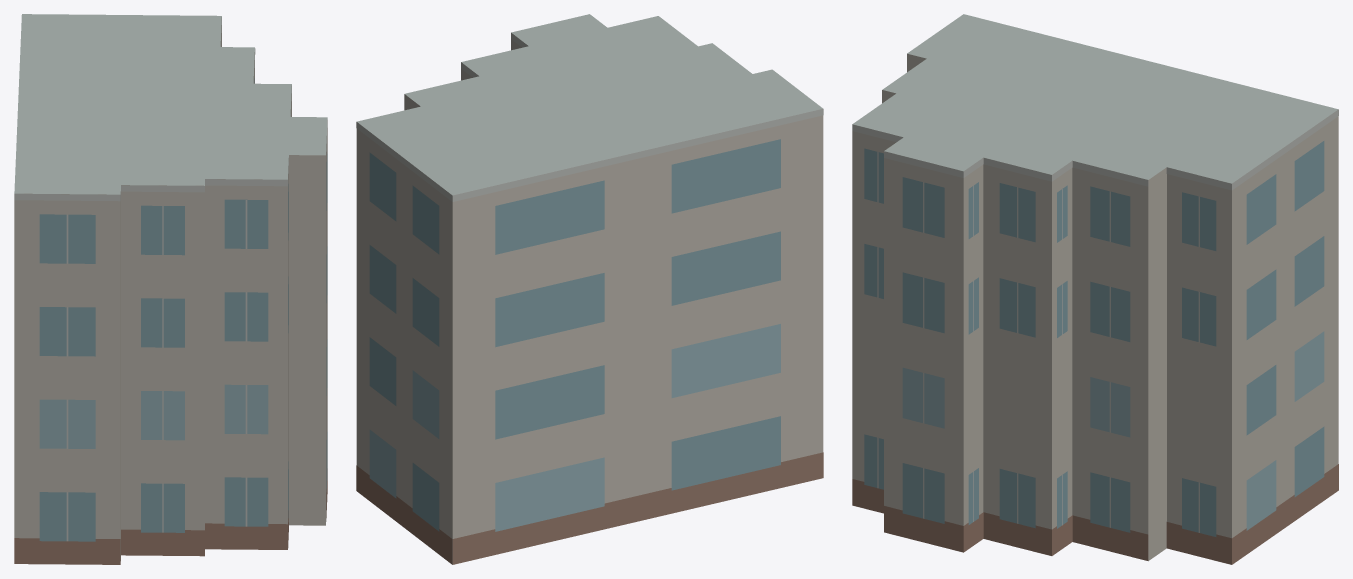
The model's file is survey-upis-32651950.glb.
3 views of the same model, side by side, from view 1: azimuth 30°, elevation 25°; view 2: azimuth 150°, elevation 25°; view 3: azimuth 270°, elevation 25° (orthographic). The views are drawn at different scales.
Parts seen in each view (by area): view 1: survey-upis-32651950.tmp; view 2: survey-upis-32651950.tmp; view 3: survey-upis-32651950.tmp.
Boxes of the visible parts, box(x1,y1,x2,y2) form: survey-upis-32651950.tmp: box(14, 14, 327, 564); survey-upis-32651950.tmp: box(356, 14, 823, 564); survey-upis-32651950.tmp: box(852, 14, 1338, 564).
Bounding box in the file's own units: 13.09 × 13.7 × 15.85.
